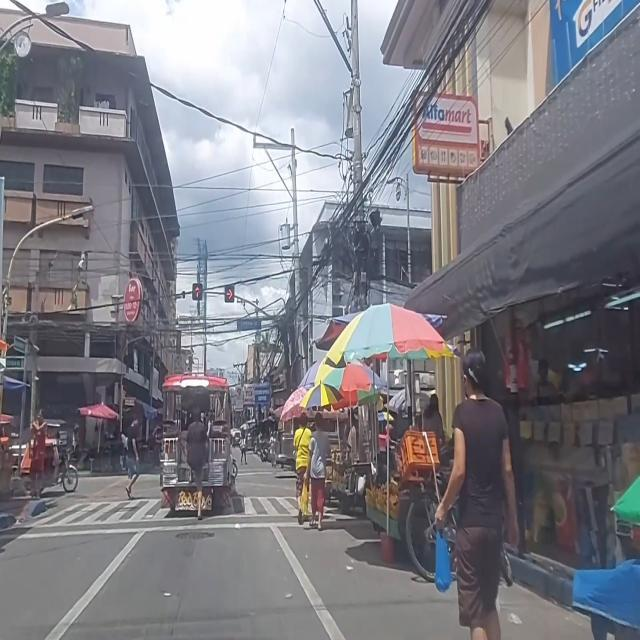bike: (393, 432, 513, 587)
jeepney: (160, 374, 237, 511)
tricycle: (20, 418, 78, 492)
